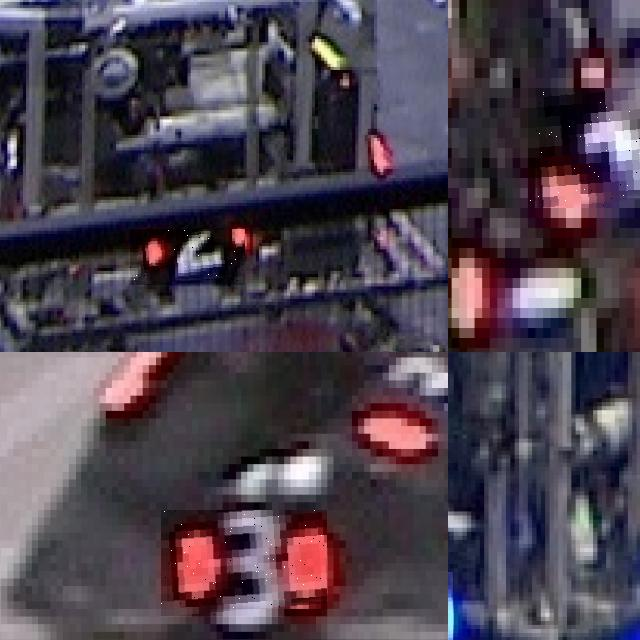R2: (130, 229, 245, 285)
R3: (161, 510, 327, 616), (528, 88, 640, 208), (370, 352, 448, 464), (448, 208, 497, 352)
